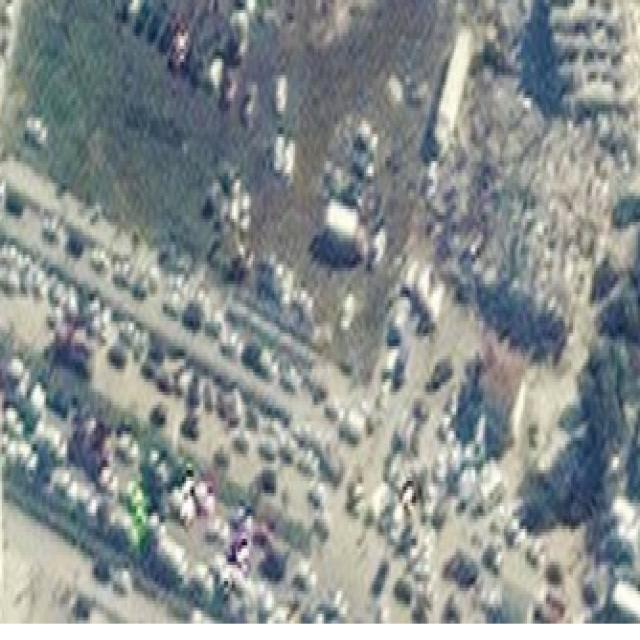Rubble: (528, 115, 593, 314), (468, 98, 521, 298), (598, 110, 640, 190)
